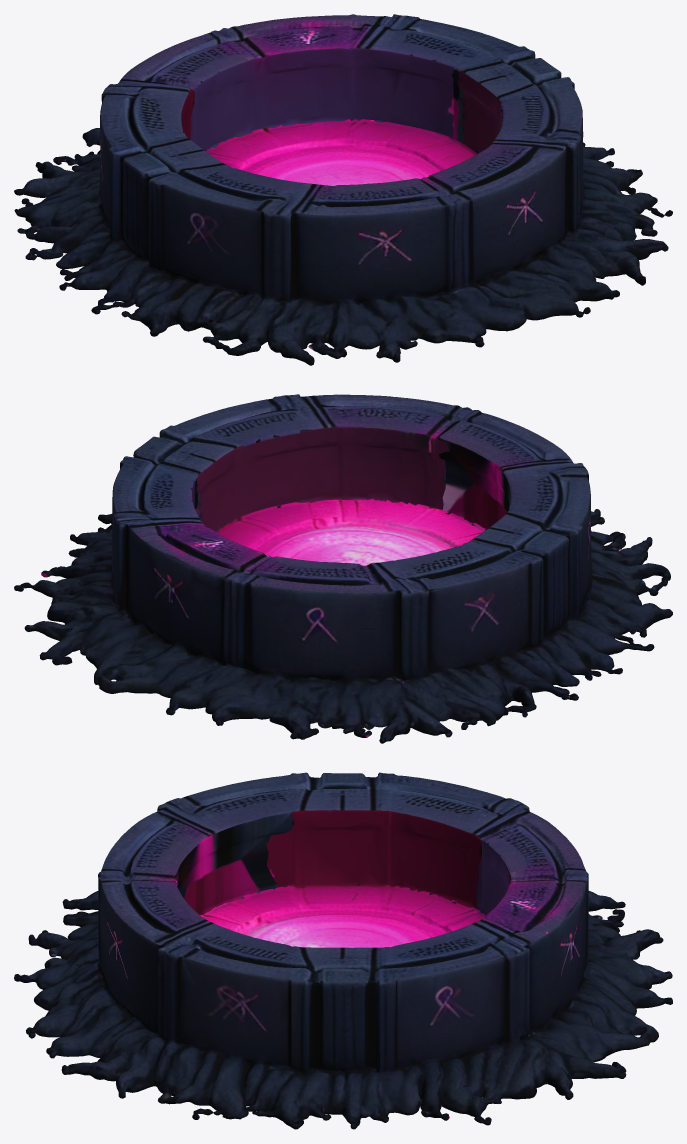
File: well-dais-generated-2026-05-17T17-44-58-015Z.high.glb
3 renders of one model, top to bottom at view 1: azimuth 30°, elevation 25°; view 2: azimuth 150°, elevation 25°; view 3: azimuth 270°, elevation 25°, orthographic. The views are drawn at different scales.
Parts seen in each view (by area): view 1: temp_mesh.ply; view 2: temp_mesh.ply; view 3: temp_mesh.ply.
Part boxes in pixels (<box>): temp_mesh.ply: <box>14,14,672,365</box>; temp_mesh.ply: <box>14,394,672,743</box>; temp_mesh.ply: <box>14,772,672,1129</box>.
Size of the model in its own units: 1.97 by 0.3906 by 1.97.
1 material, 1 textured.
